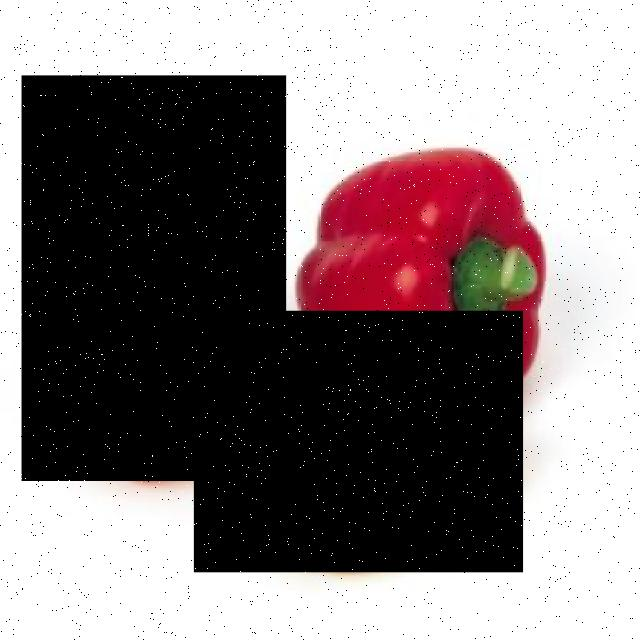Capsicum: (22, 75, 287, 480), (194, 311, 524, 572)
